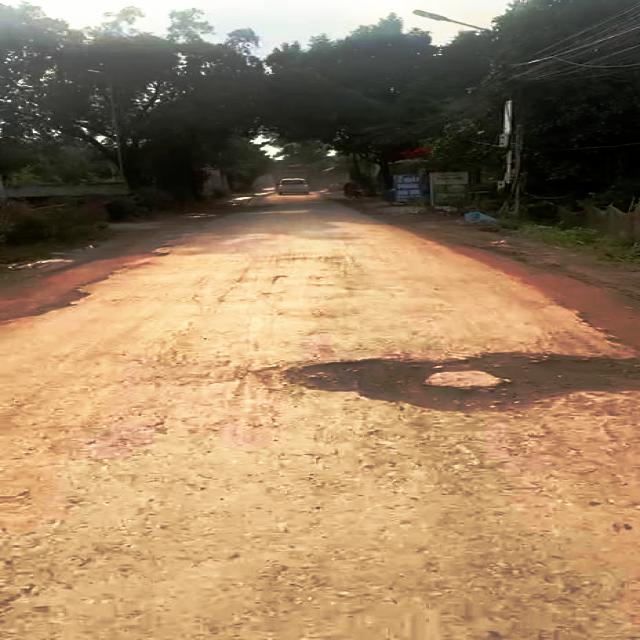pothole: (288, 347, 640, 421)
